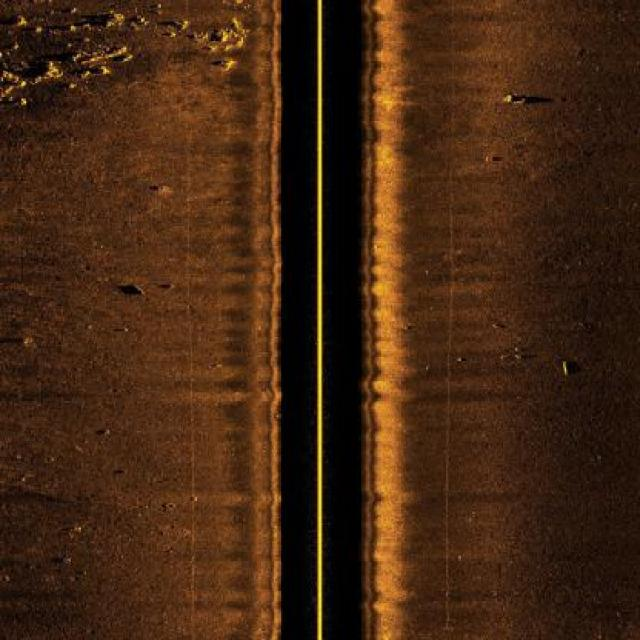mine: (113, 282, 149, 301), (560, 358, 585, 379), (112, 53, 134, 64)
